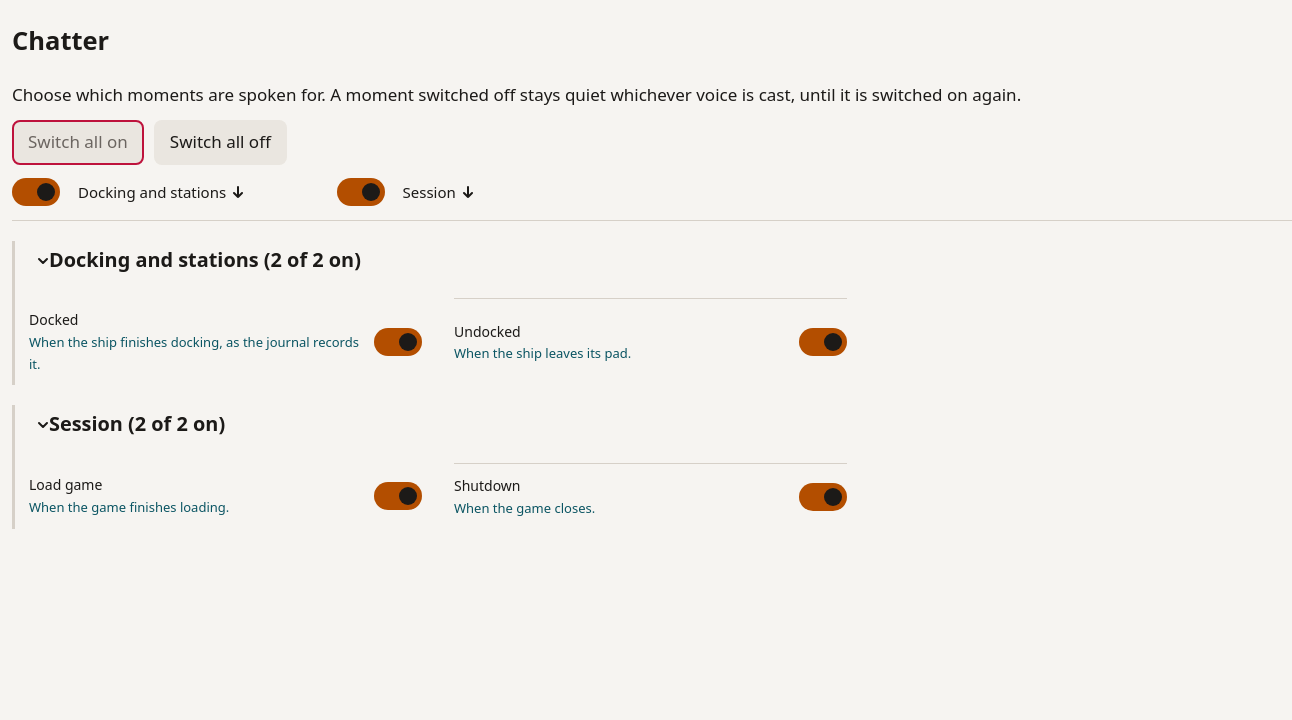
the chatter pane › draws a refused switch as a refusal
The image size is (1292, 720).
Click the switch named "Docked" at {"x": 398, "y": 342}, box [374,328,422,356]
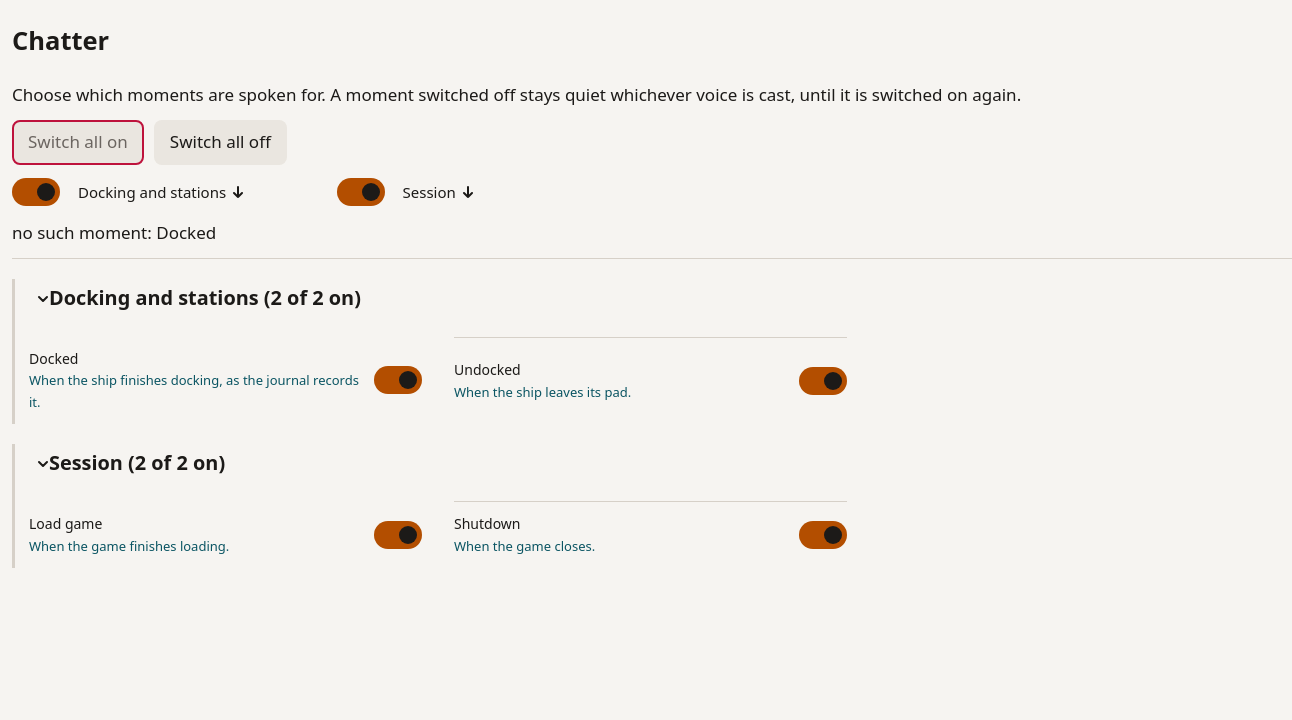
Now the message shows "no such moment", box [12,221,216,244]
